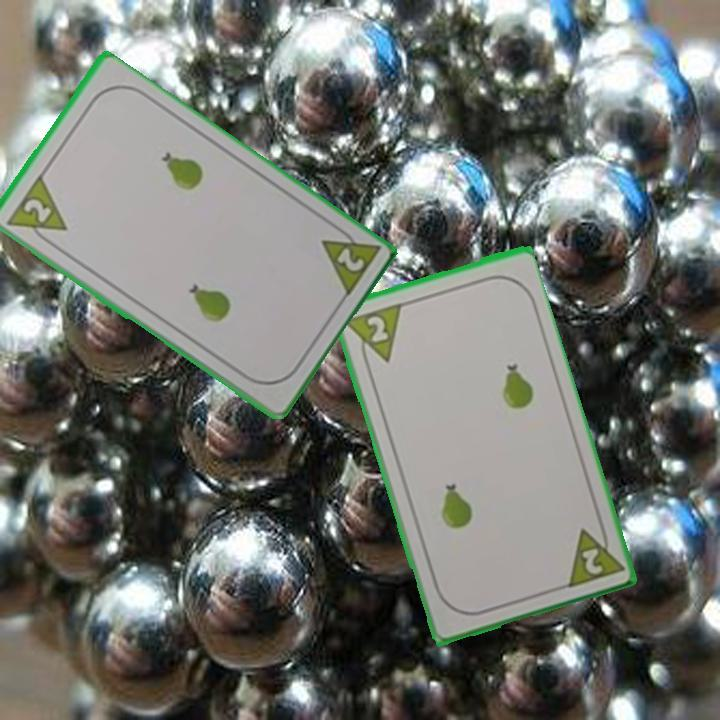2p: (316, 219, 382, 302), (2, 173, 69, 251), (561, 517, 624, 591), (362, 311, 391, 345)
